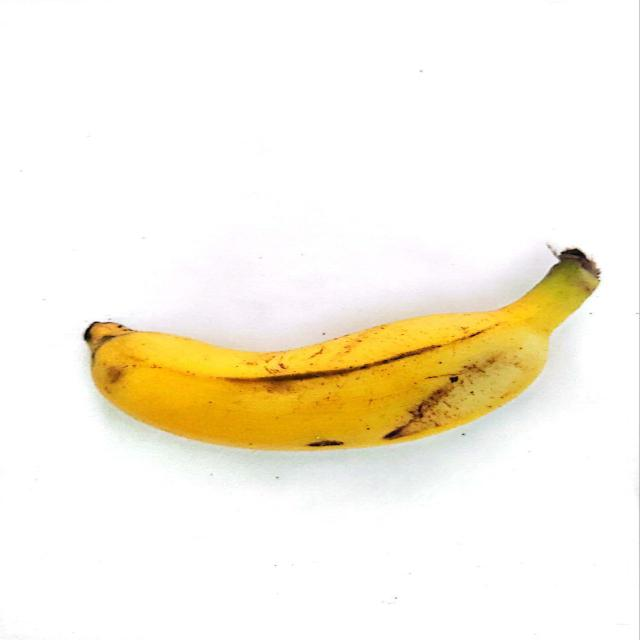fresh_banana: (82, 244, 601, 450)
